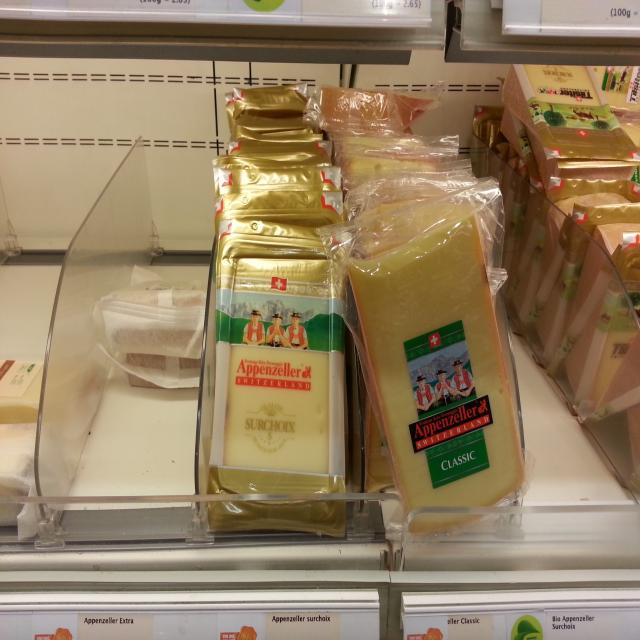Cheese: (351, 192, 532, 538), (205, 215, 360, 544), (502, 62, 640, 162), (98, 272, 206, 358), (0, 356, 46, 424)
